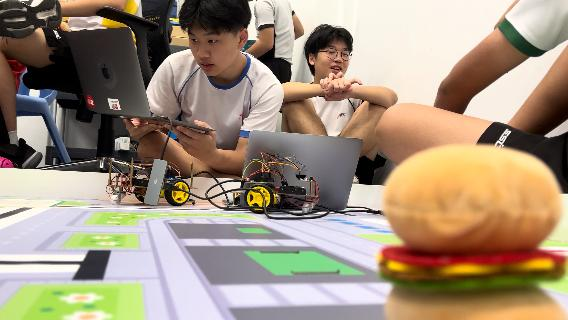burger: (373, 142, 568, 320)
